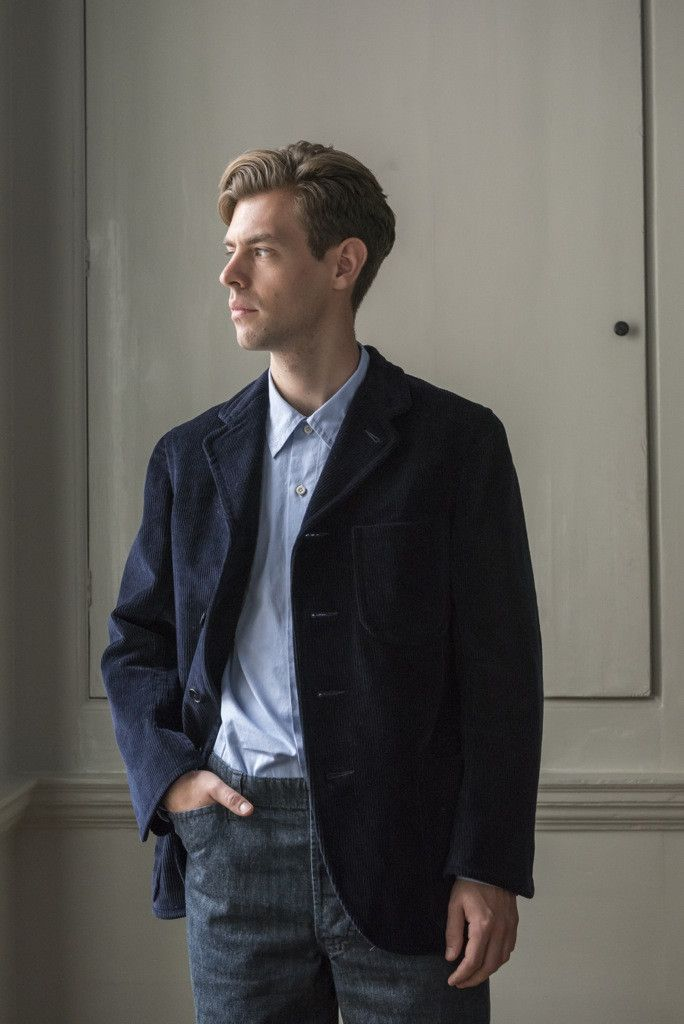person: (90, 122, 551, 1024)
